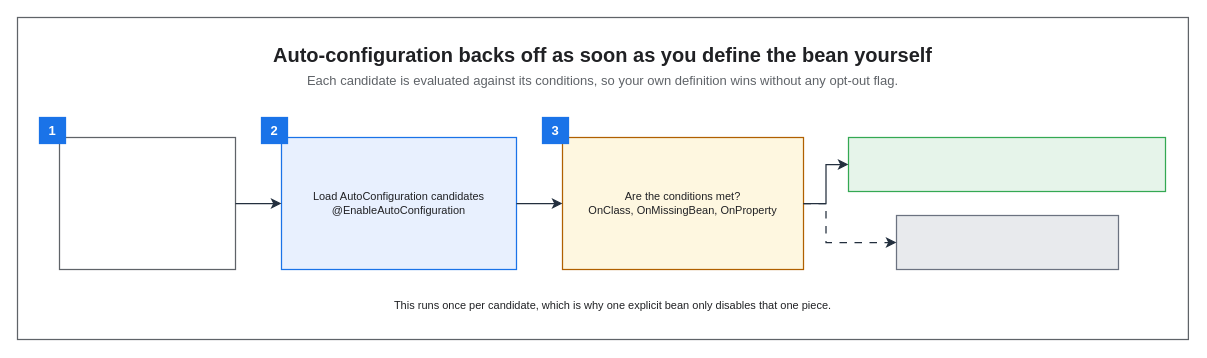
The diagram is 1207 pixels wide and 358 high, and some of its shapes have lost their labels. The centre of each missing label's shape, as x and y in pixels:
"Application start @SpringBootApplication" goes at (x=147, y=203).
"Register the auto-config beans embedded Tomcat, DispatcherServlet, converters" goes at (x=1006, y=164).
"Skip: back off your own bean already covers it" goes at (x=1007, y=242).
